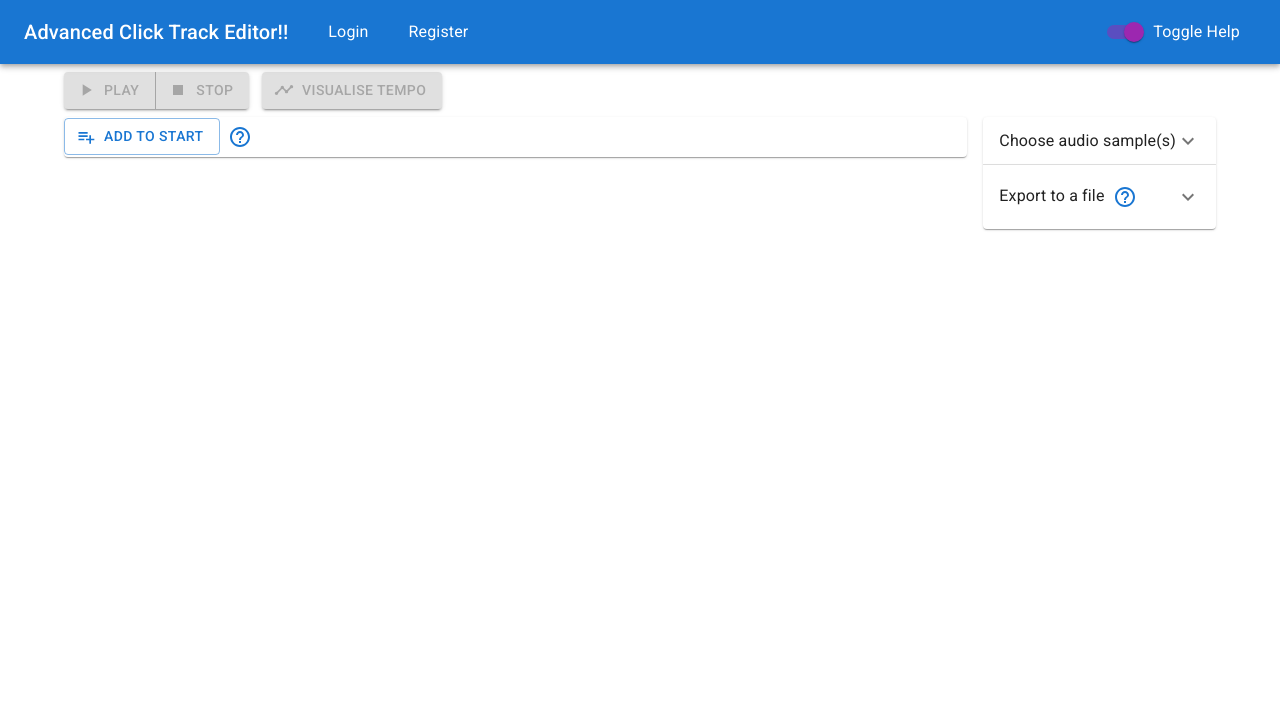
Clicktrack app › With a section created › If user selects the polyrhythm option, they are no longer able to edit the accents
Click the button with id "add-to-start": point(142, 137) [64,118,220,155]
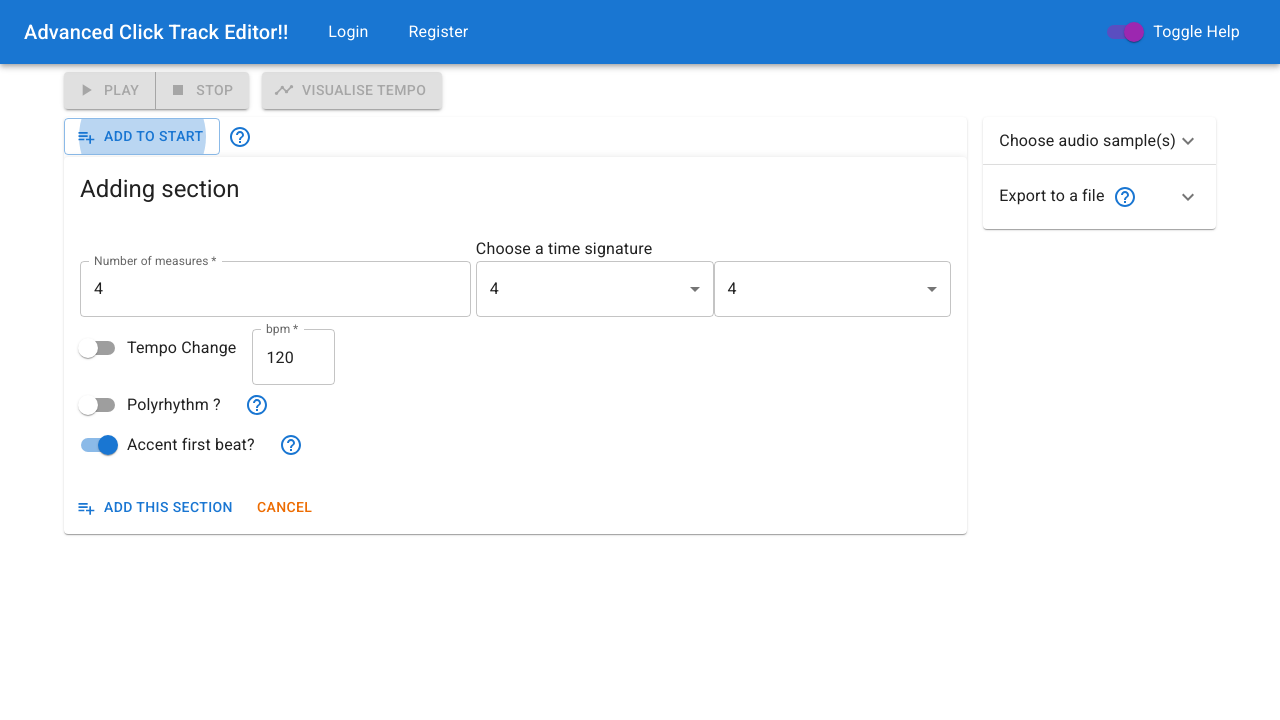
Click the button with class "section-form-submit": point(157, 508) [72,489,241,526]
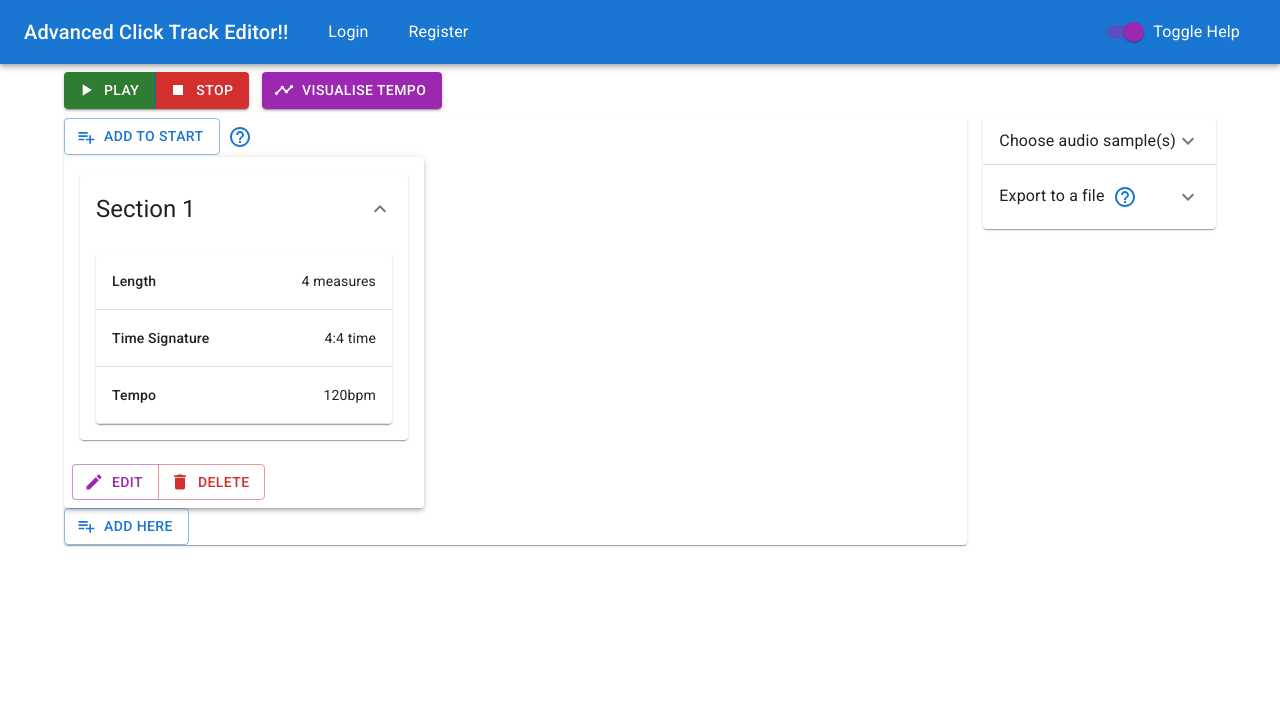
Click the button with class "add-here-button": point(127, 527) [64,508,189,545]
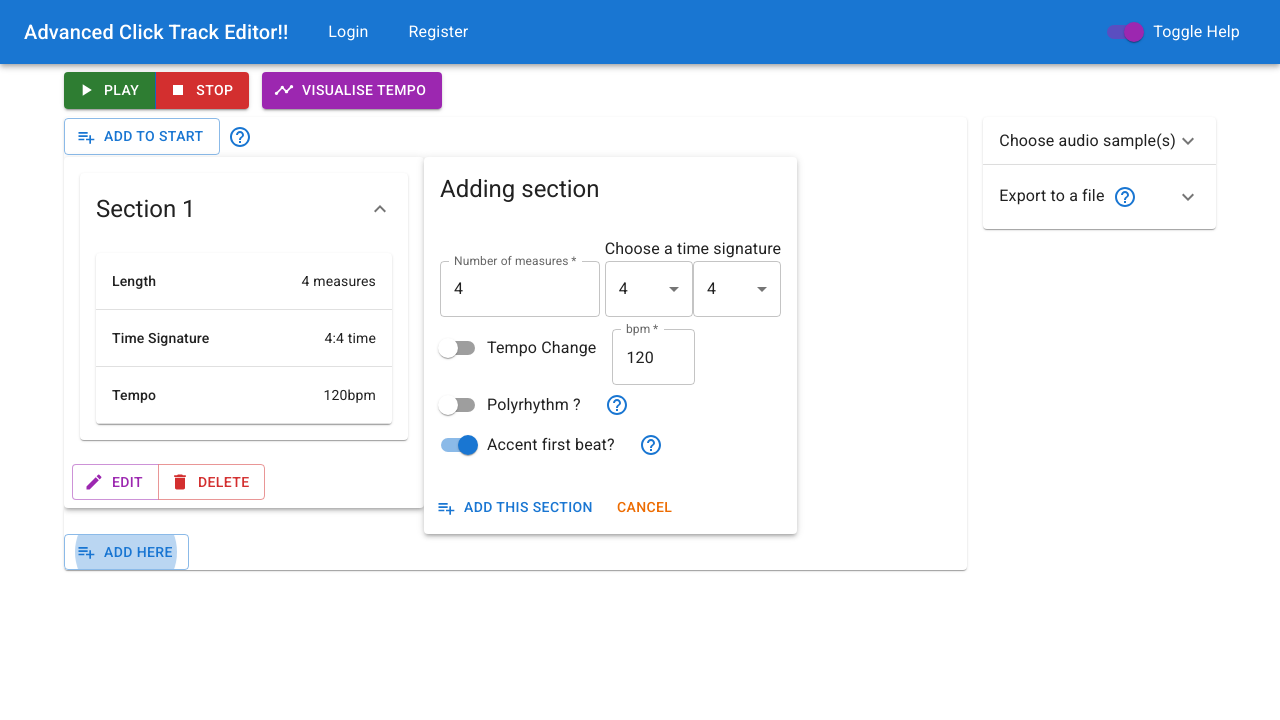
Click the checkbox labelled "Polyrhythm ?": point(510, 405) [438,395,581,415]
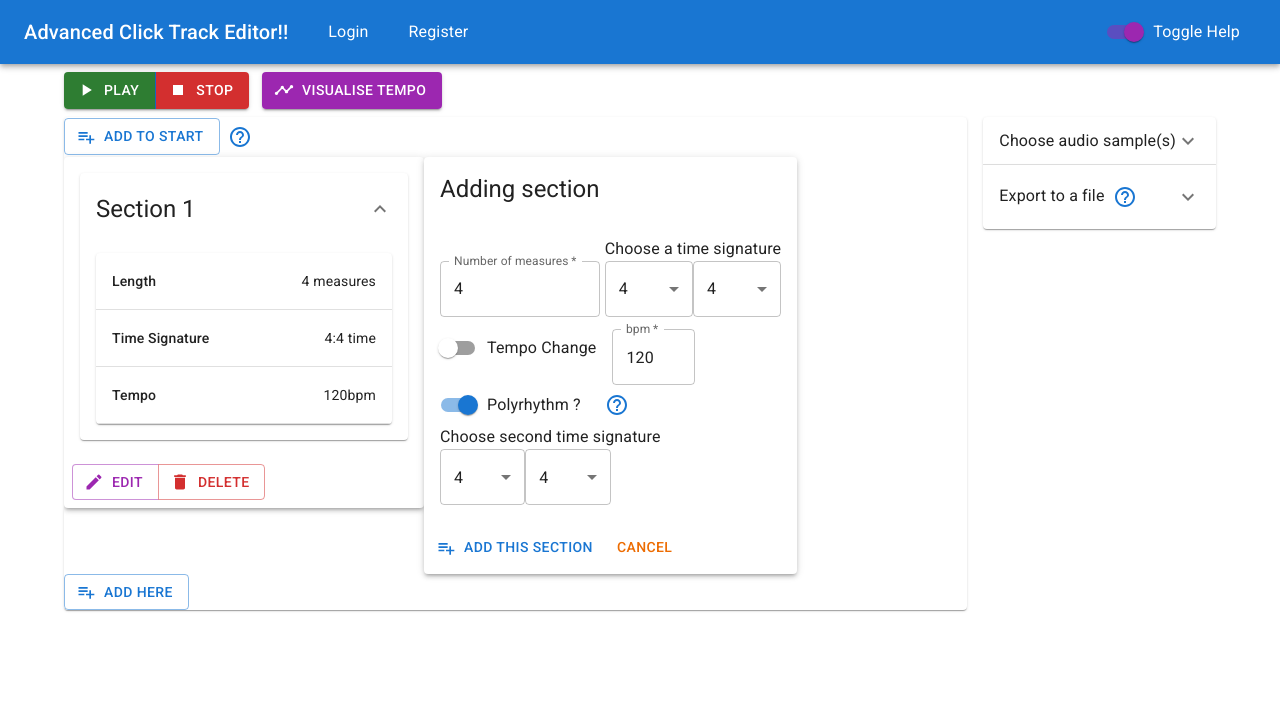
expect the checkbox is gone: met
